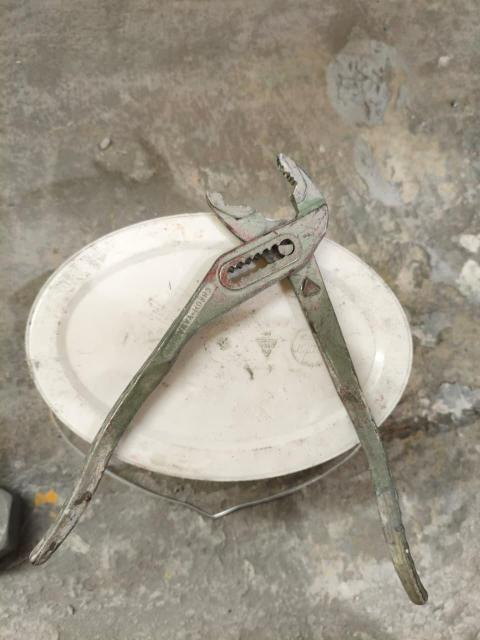Metal: (18, 287, 272, 568), (290, 283, 452, 618), (208, 152, 333, 280), (0, 480, 28, 563)
